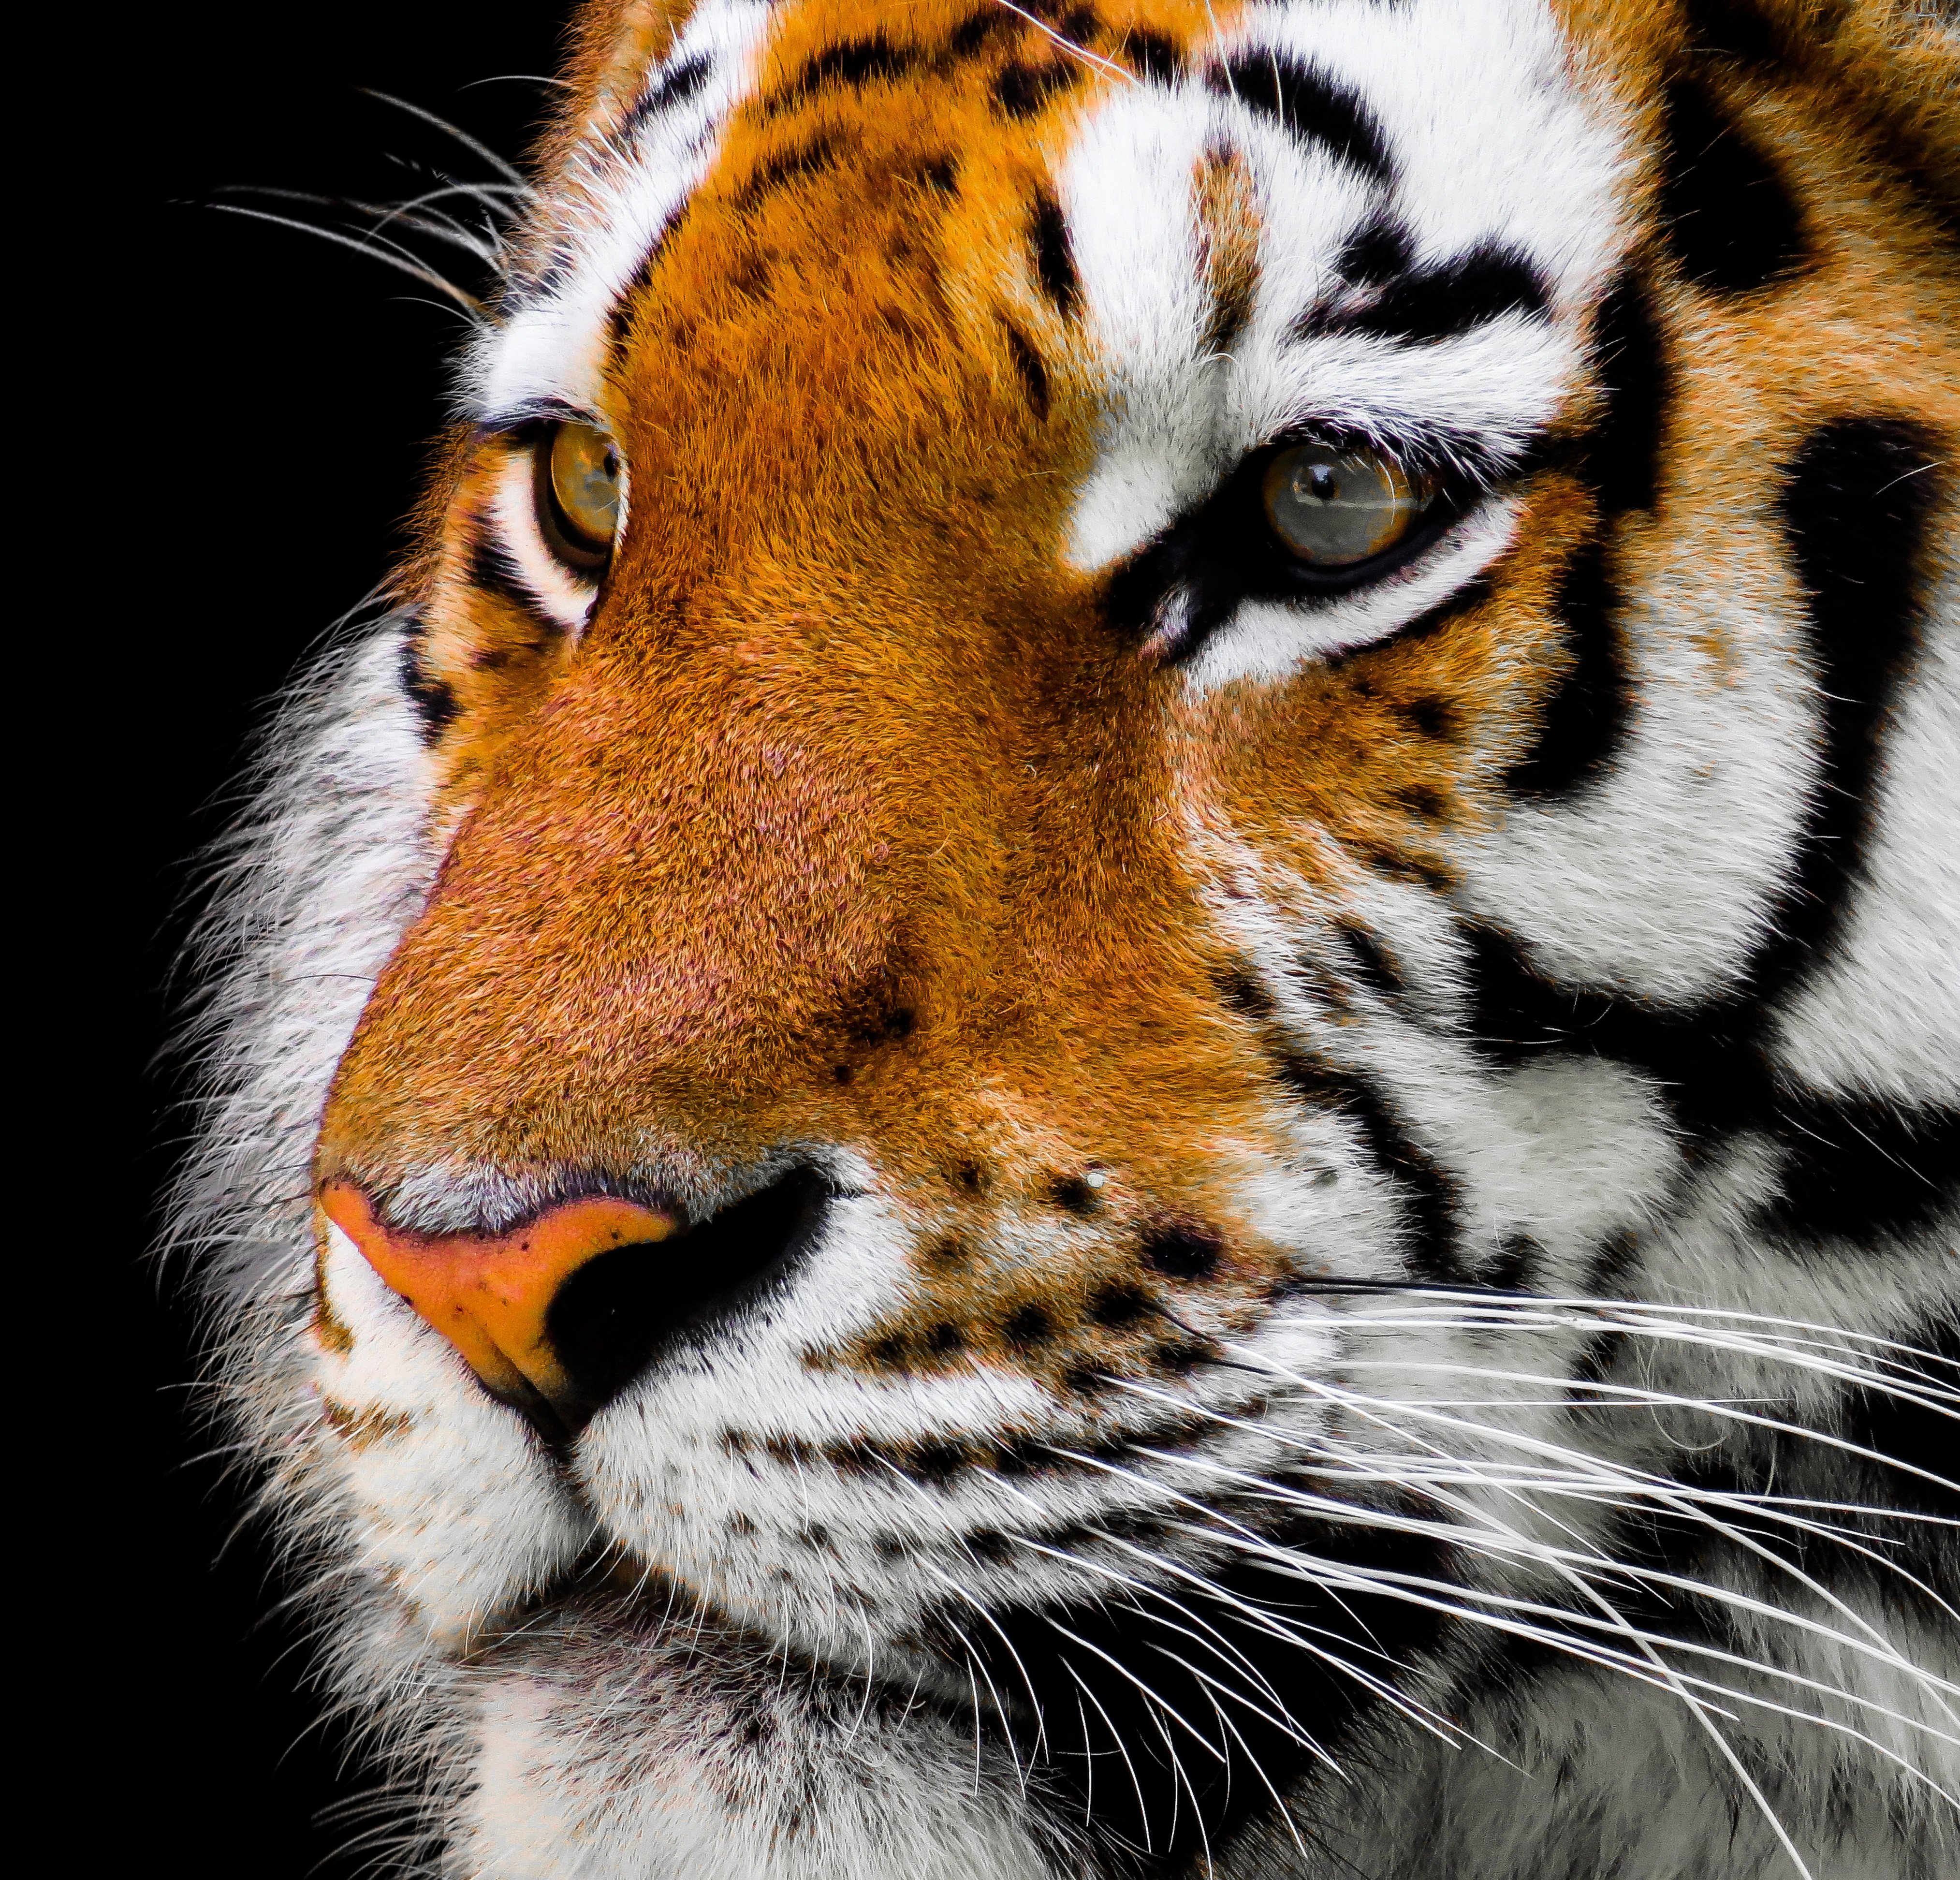tiger: (250, 53, 1869, 1770)
